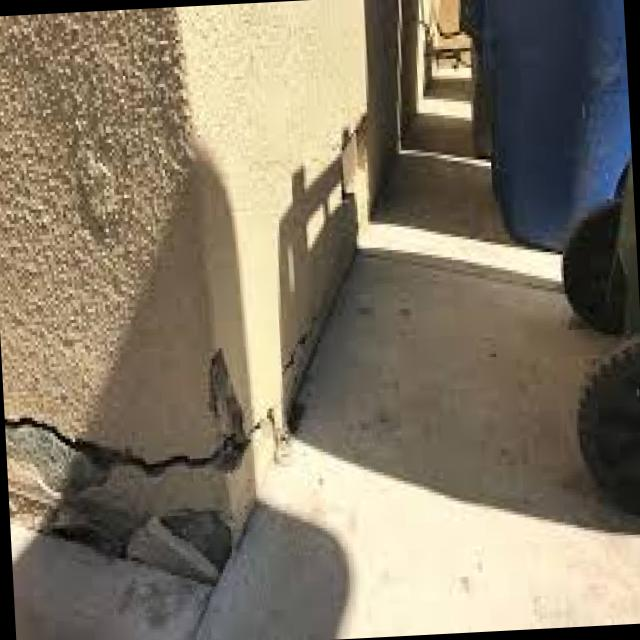crack: (4, 396, 255, 488)
